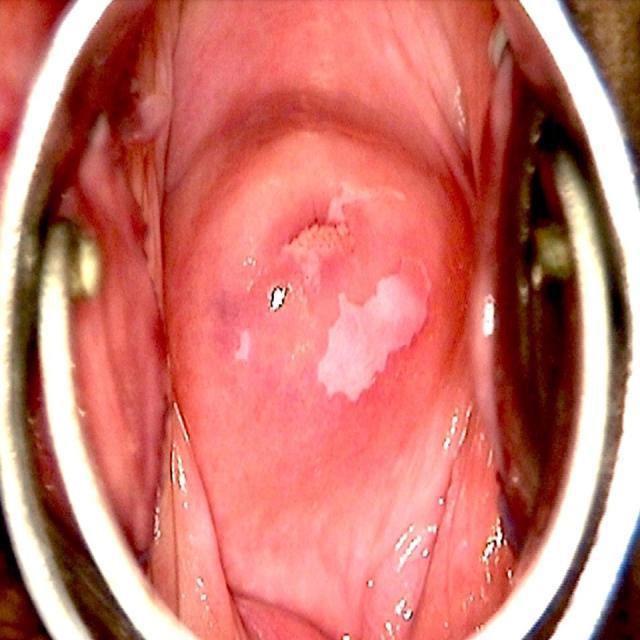cervical_lesion: (216, 172, 432, 407)
